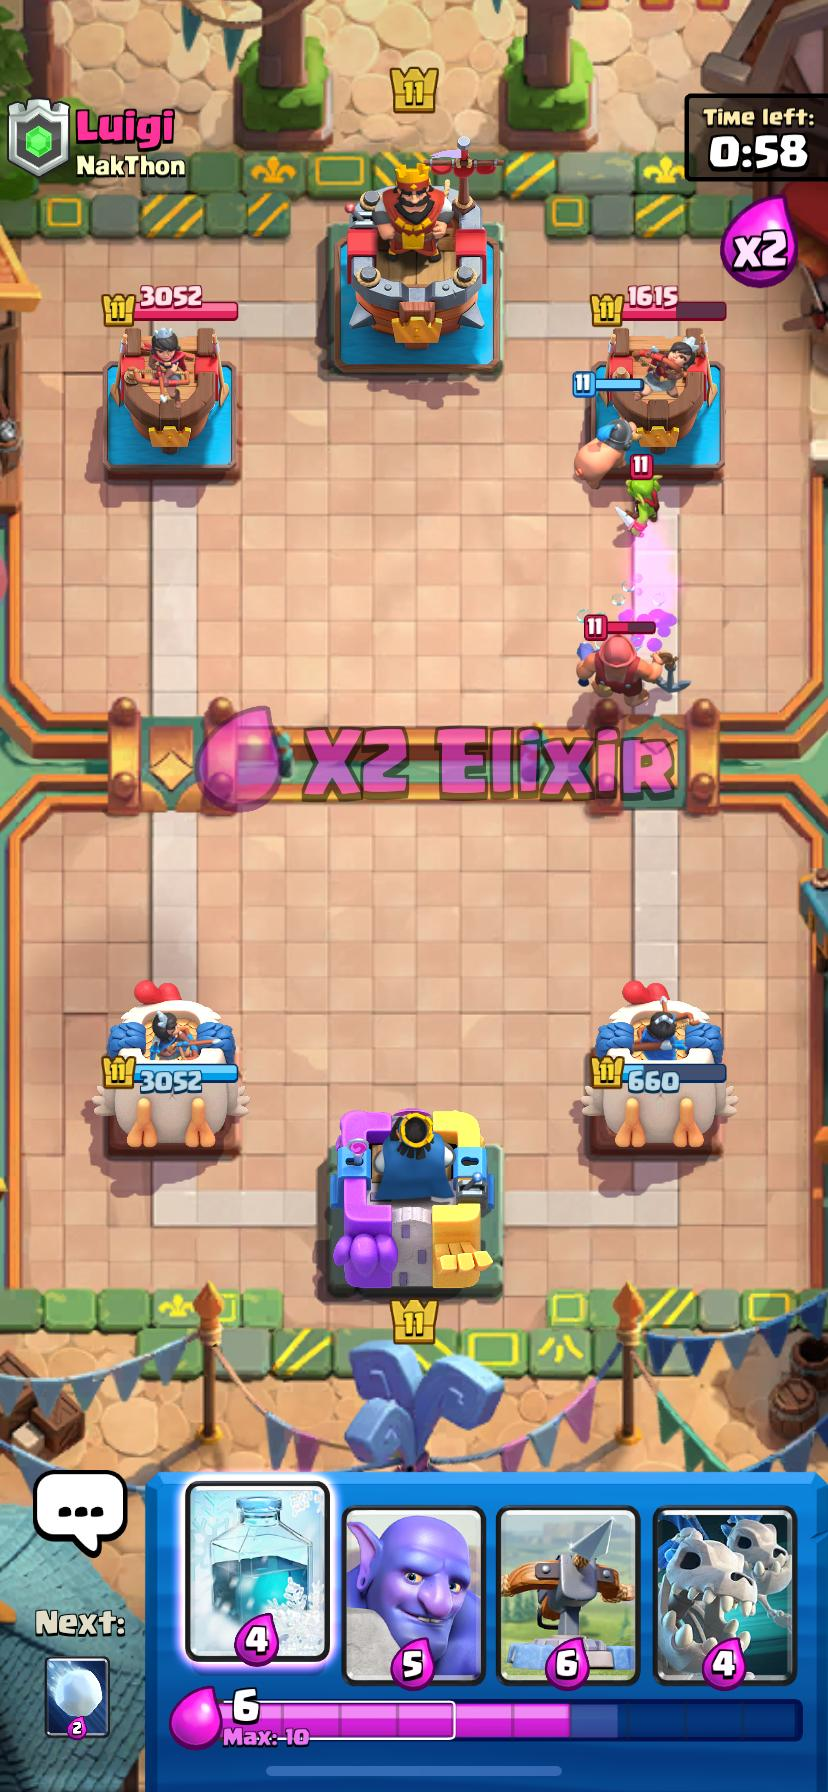EFisherman: (574, 633, 691, 707)
EGoblin: (621, 471, 659, 536)
EKingTower: (331, 141, 500, 374)
EnemyPrincessTower: (106, 327, 237, 477), (597, 329, 709, 455)
OHog: (573, 419, 643, 490)
OwnKingTower: (328, 1109, 502, 1295)
OwnPrincessTower: (583, 981, 735, 1151), (93, 983, 247, 1149)
